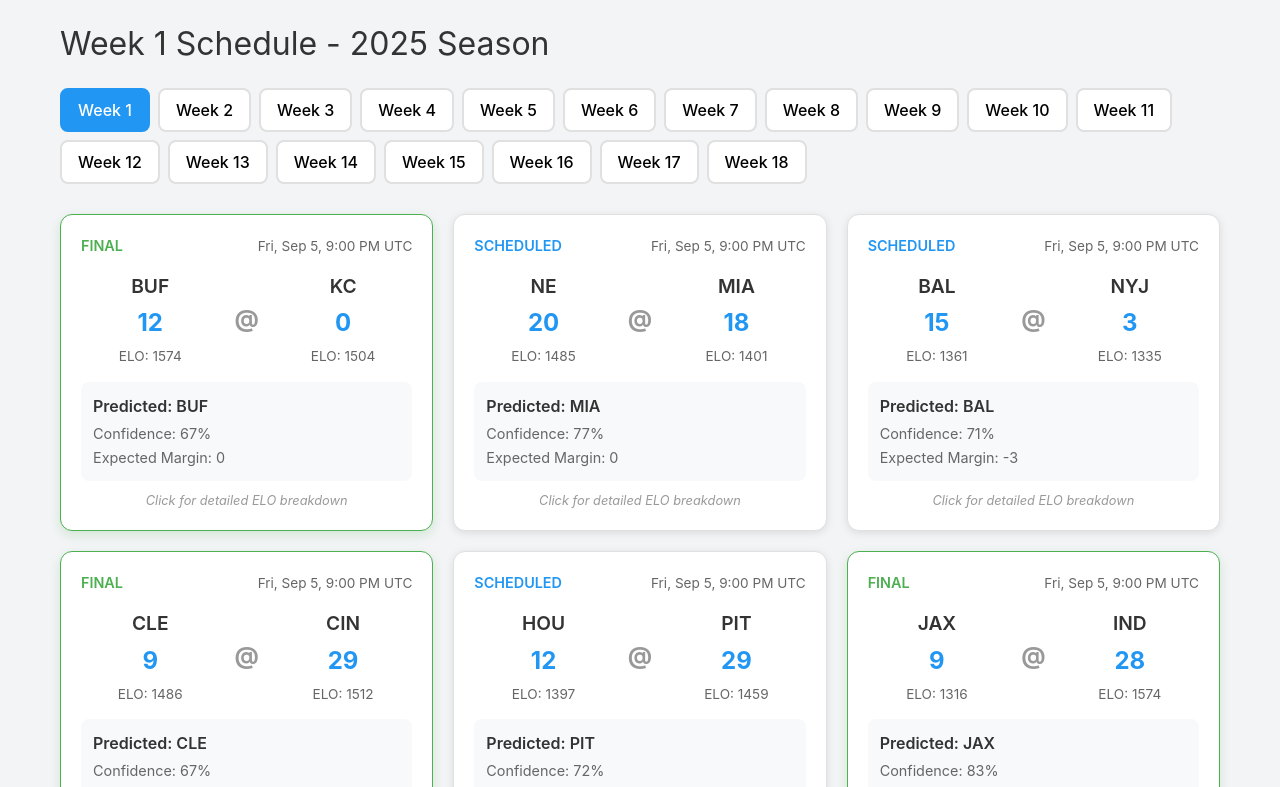
Test: WeeklySchedule Component - Simple Tests › handles week selection
expect the text "KC" is shown: met, box [330, 274, 356, 298]
Note: Click on Week 2
Click the button "Week 2": point(204, 110) [158, 88, 251, 132]
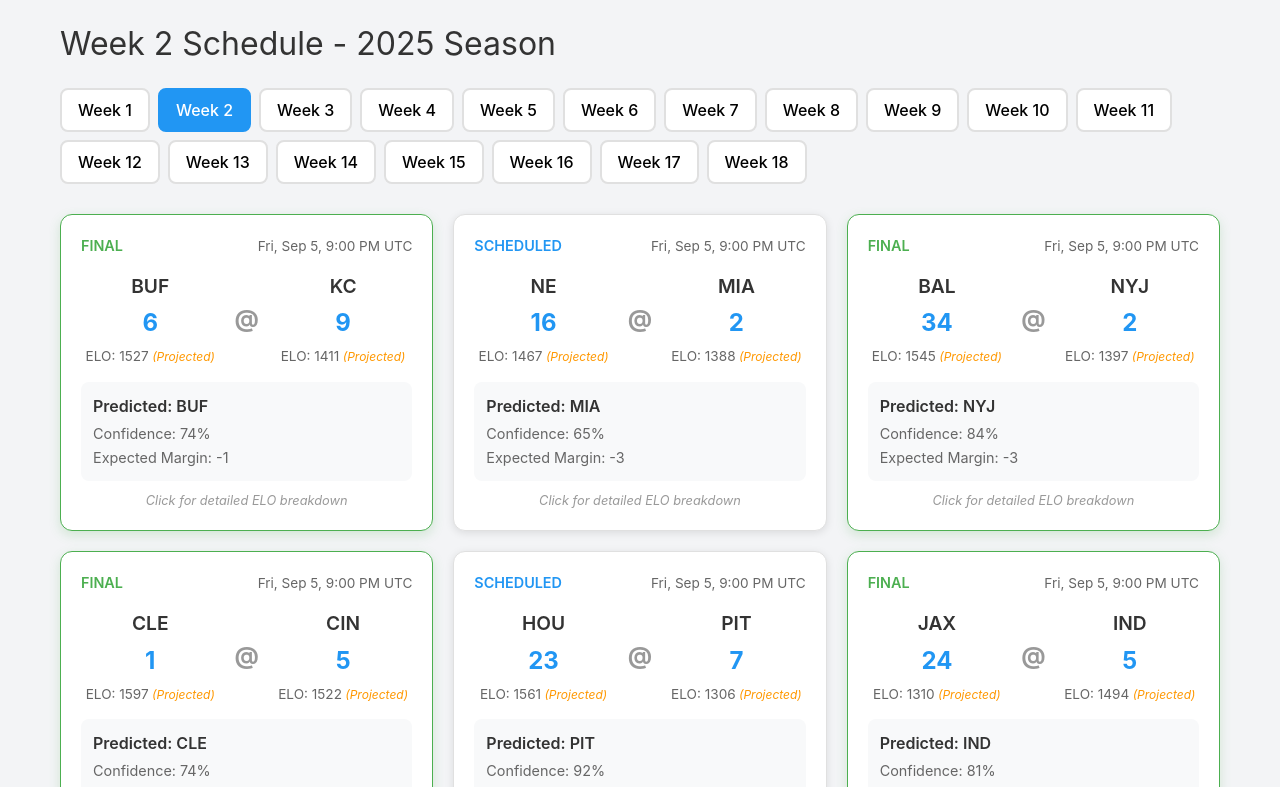
expect the heading "Week 2 Schedule - 2025 Season" is shown: met, box [60, 20, 556, 68]
